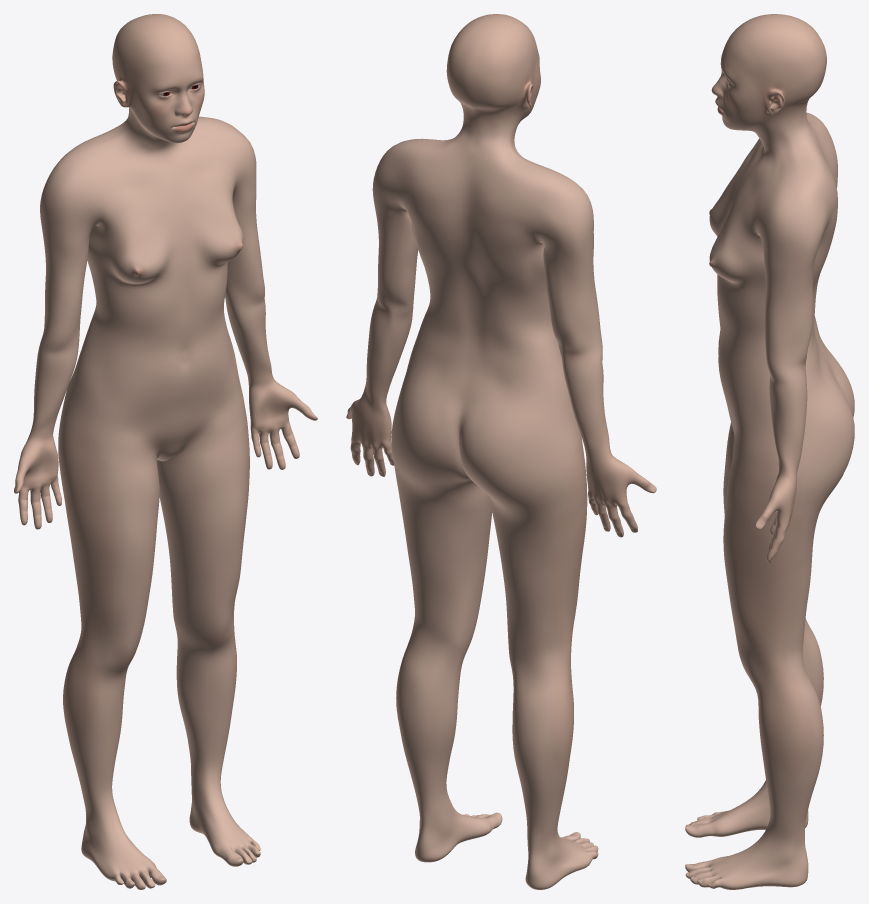
The model's file is Anato3D_Female_30_Fase1.glb.
3 views of the same model, side by side, from view 1: azimuth 30°, elevation 25°; view 2: azimuth 150°, elevation 25°; view 3: azimuth 270°, elevation 25° (orthographic). The views are drawn at different scales.
Parts seen in each view (by area): view 1: Skin_Body; view 2: Skin_Body; view 3: Skin_Body.
Part boxes in pixels (<box>): Skin_Body: <box>14,14,317,889</box>; Skin_Body: <box>346,14,656,889</box>; Skin_Body: <box>685,14,854,889</box>.
Bounding box in the file's own units: 0.5996 × 1.57 × 0.2881.
Materials: 2 (1 with a texture image).
